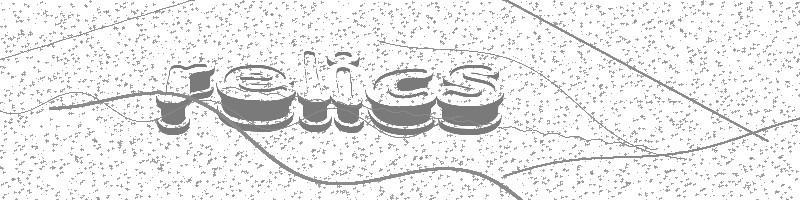c: (363, 68, 436, 136)
e: (215, 63, 296, 132)
i: (325, 50, 365, 134)
l: (296, 50, 331, 134)
r: (155, 62, 214, 136)
s: (437, 64, 505, 135)
